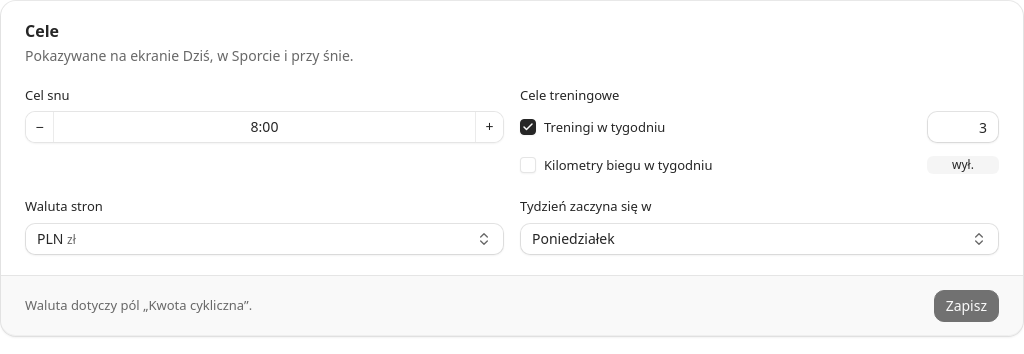
GoalsCard › włączenie km pokazuje pole z zapisaną liczbą; oba cele naraz da się zapisać
Step 1. Click the checkbox named "Kilometry biegu w tygodniu" → (528, 165), box [520,157,536,173]
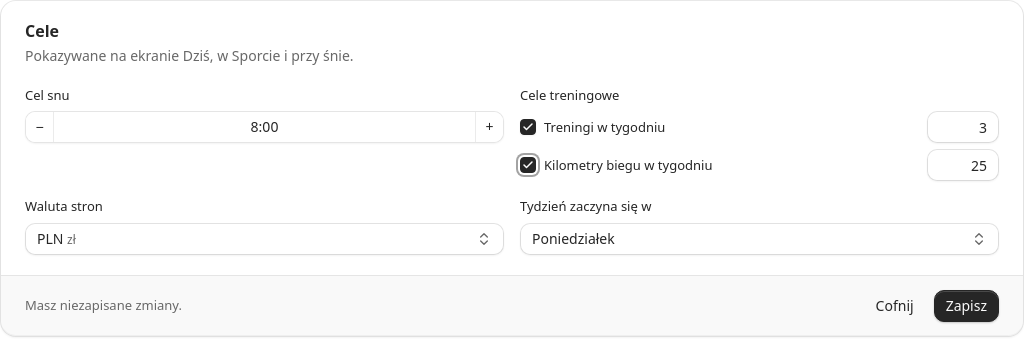
Result: the field named "Kilometry biegu w tygodniu" in the row of "Kilometry biegu w tygodniu" holds "25"
Step 2. Replace the text in the field named "Kilometry biegu w tygodniu" in the row of "Kilometry biegu w tygodniu" with "30" → (963, 165), box [927,149,999,181]
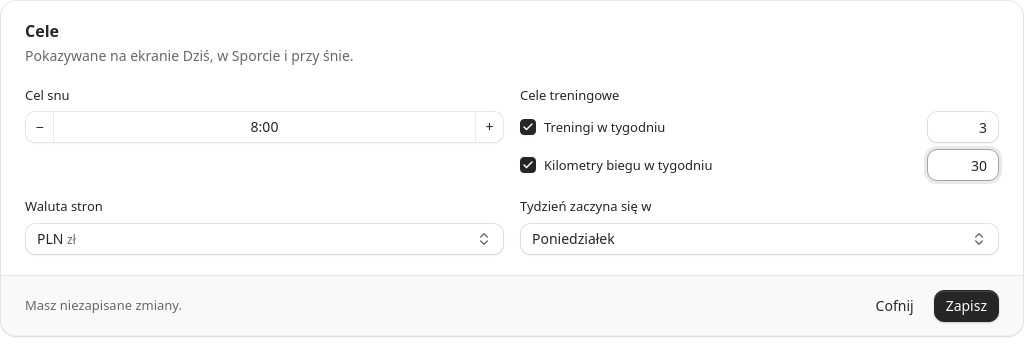
Step 3. Click the button "Zapisz" → (966, 306), box [934,290,999,322]
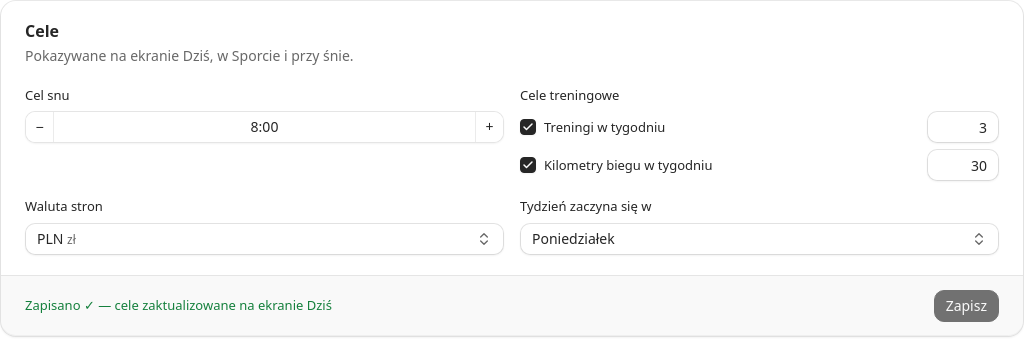
Result: the text "Zapisano ✓ — cele zaktualizowane na ekranie Dziś" is shown at [25,296,332,316]
